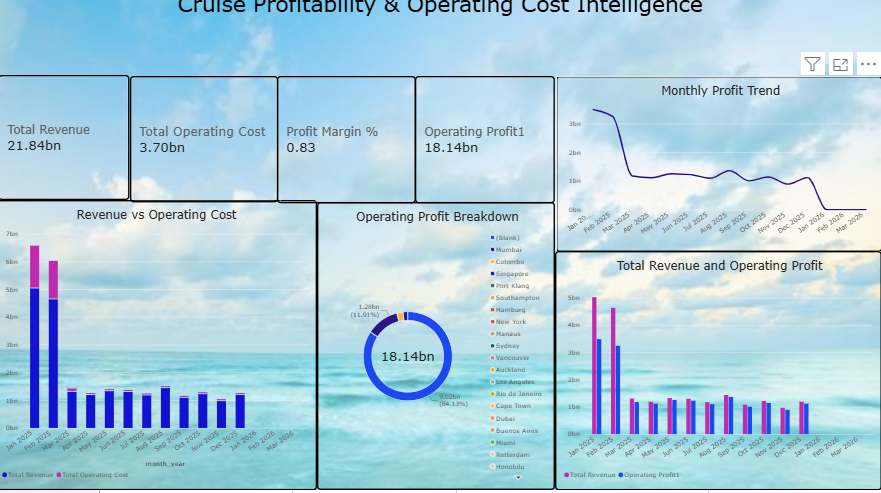

The page's visual inventory and layout, read from the dashboard file:
{"tool":"powerbi","page":{"name":"Profit & Cost Intelligence","canvas":[1920,1080],"ordinal":3},"visuals":[{"type":"lineChart","title":"Monthly Profit Trend","fields":{"Category":["public calendar.month_year"],"Y":["public port_tax_fee.Operating Profit"]},"box":[1215,185,705,380],"z":0},{"type":"columnChart","title":"Revenue vs Operating Cost","fields":{"Category":["public calendar.month_year"],"Y":["public new_activity_booking.Total Revenue","public port_tax_fee.Total Operating Cost"]},"box":[0,453.5,700.5,627.4],"z":1},{"type":"donutChart","title":"Operating Profit Breakdown","fields":{"Category":["public port_dimension.port_name"],"Y":["public port_call.Operating Profit1"]},"box":[700.5,458.6,514,622.4],"z":2},{"type":"clusteredColumnChart","title":"Total Revenue and Operating Profit","fields":{"Category":["public calendar.month_year"],"Y":["public new_activity_booking.Total Revenue","public port_call.Operating Profit1"]},"box":[1214.5,564.4,705.5,516.5],"z":3},{"type":"textbox","title":"Cruise Profitability & Operating Cost Intelligence","box":[10.1,0,1909.9,183.9],"z":4},{"type":"cardVisual","fields":{"Data":["public port_call.Operating Profit1"]},"box":[912.5,185,302.4,274.6],"z":6},{"type":"cardVisual","fields":{"Data":["public port_dimension.Profit Margin %"]},"box":[612.5,185,299.8,274.6],"z":7},{"type":"cardVisual","fields":{"Data":["public port_tax_fee.Total Operating Cost"]},"box":[295,185,320,272.5],"z":8},{"type":"cardVisual","fields":{"Data":["public new_activity_booking.Total Revenue"]},"box":[10,184,284,270],"z":9}]}

Visuals, with their boxes in screenshot pixels (x1, y1, x2, y2), scaled from the page's 1920x1080 canvas onto the 881x493 screenshot:
"Monthly Profit Trend" lineChart: box(558, 84, 880, 258)
"Revenue vs Operating Cost" columnChart: box(0, 207, 321, 492)
"Operating Profit Breakdown" donutChart: box(321, 209, 557, 492)
"Total Revenue and Operating Profit" clusteredColumnChart: box(557, 258, 880, 492)
"Cruise Profitability & Operating Cost Intelligence" textbox: box(5, 0, 880, 84)
cardVisual - public port_call.Operating Profit1: box(419, 84, 557, 210)
cardVisual - public port_dimension.Profit Margin %: box(281, 84, 419, 210)
cardVisual - public port_tax_fee.Total Operating Cost: box(135, 84, 282, 209)
cardVisual - public new_activity_booking.Total Revenue: box(5, 84, 135, 207)
